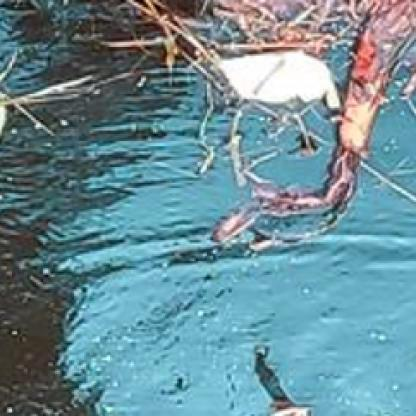Trash: (213, 48, 342, 113)
